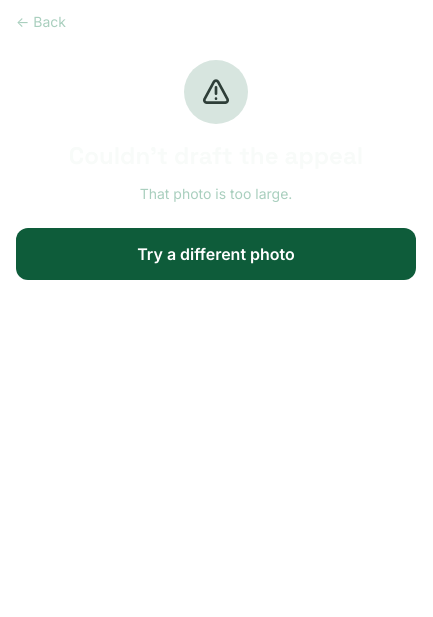
Test: AppealFlow with an initial notice › a failed draft shows the error, and "Try a different photo" goes to capture without drafting again
Check: the message reads "That photo is too large.", box [140, 185, 292, 202]
Click the button "Try a different photo" at (216, 254), box [16, 228, 416, 280]
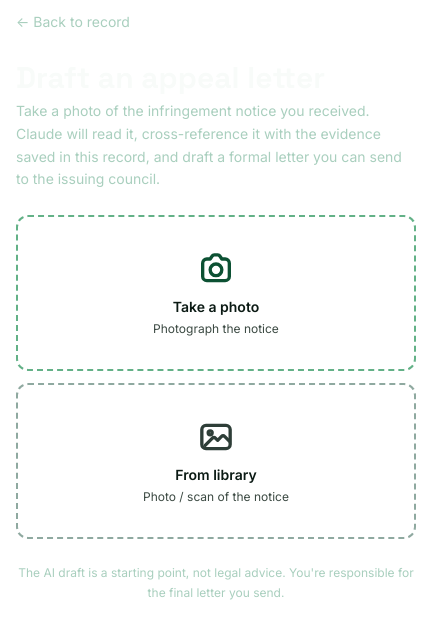
Check: the text "Take a photo" is shown, box [173, 297, 259, 317]
